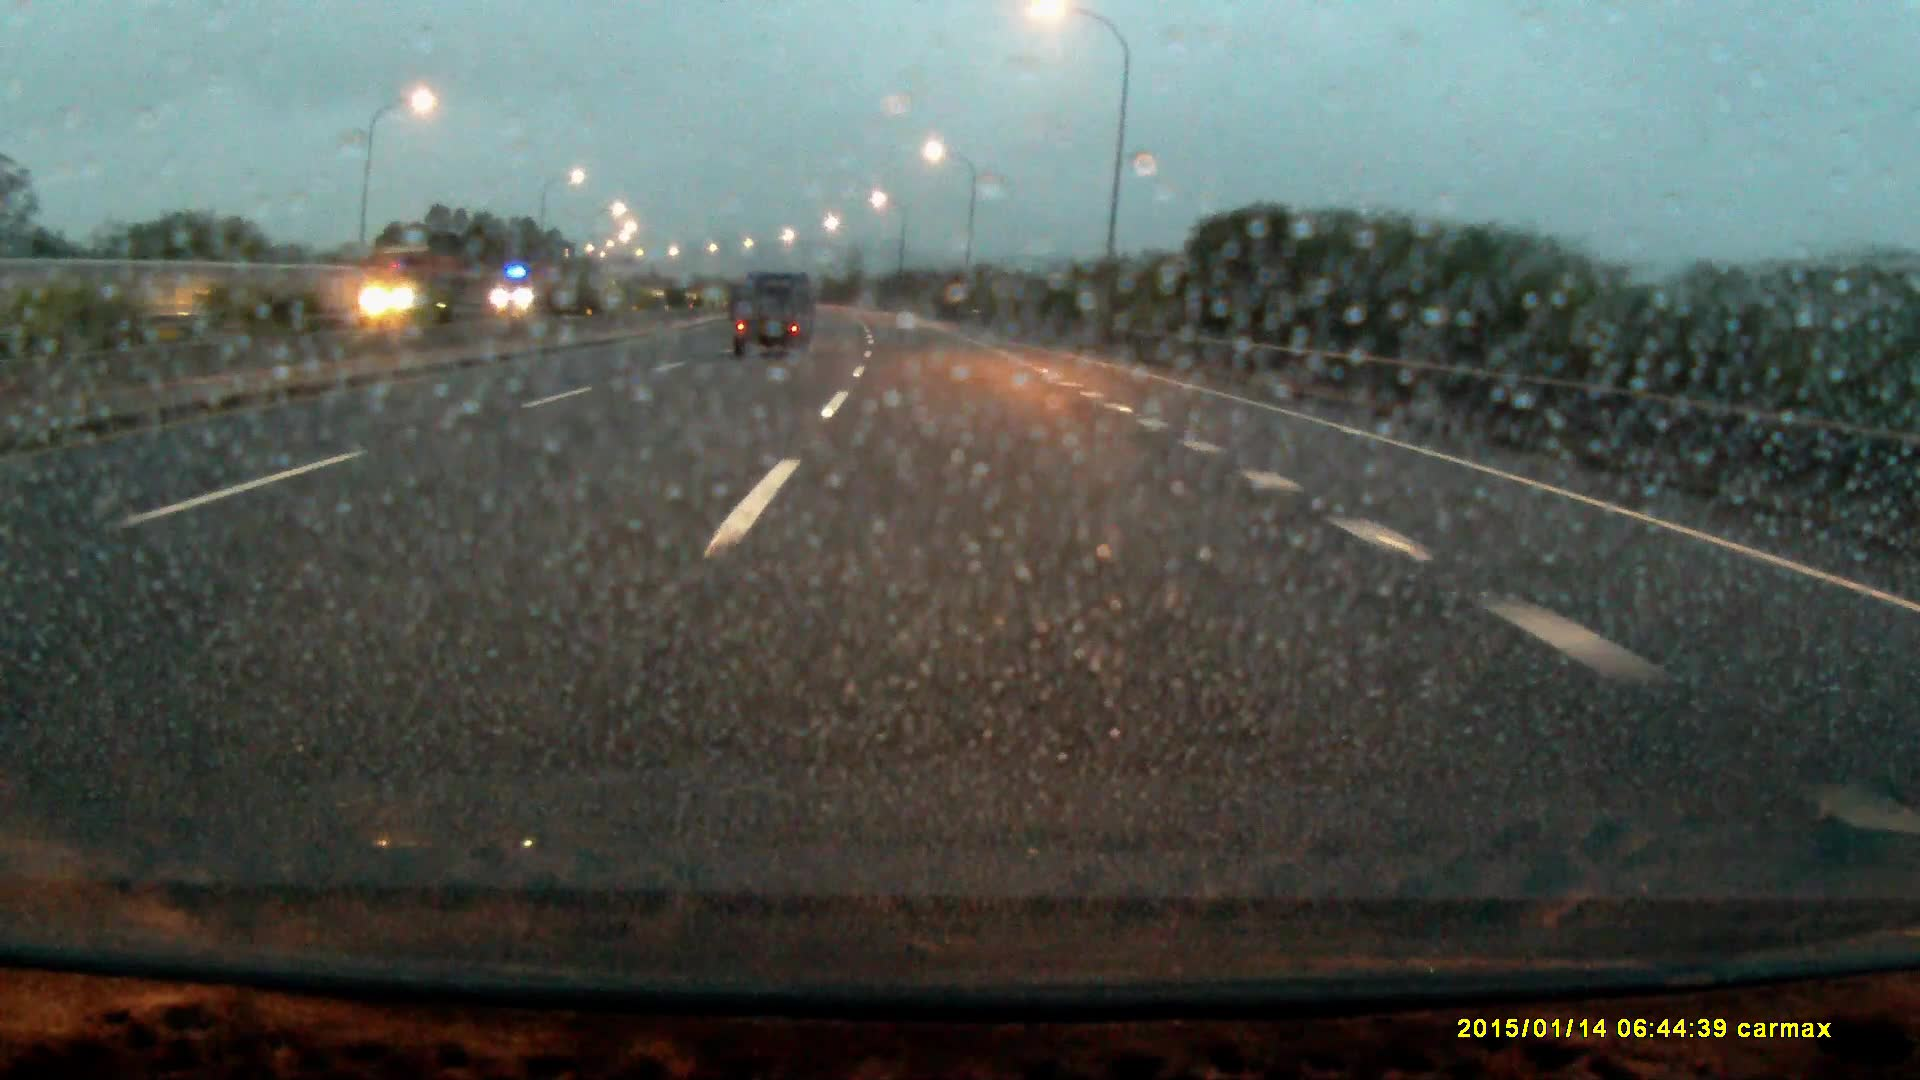vehicle: (363, 251, 473, 322), (733, 268, 814, 360), (493, 262, 564, 315)
